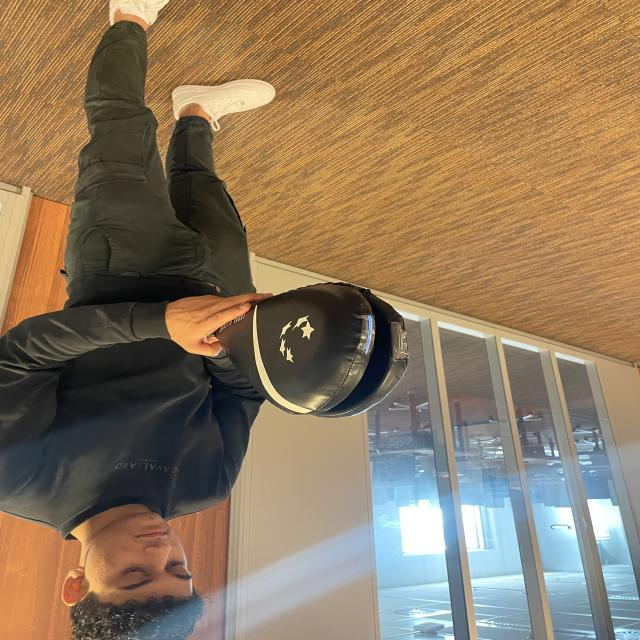paddle: (208, 284, 412, 418)
trigger: (358, 314, 378, 356)
